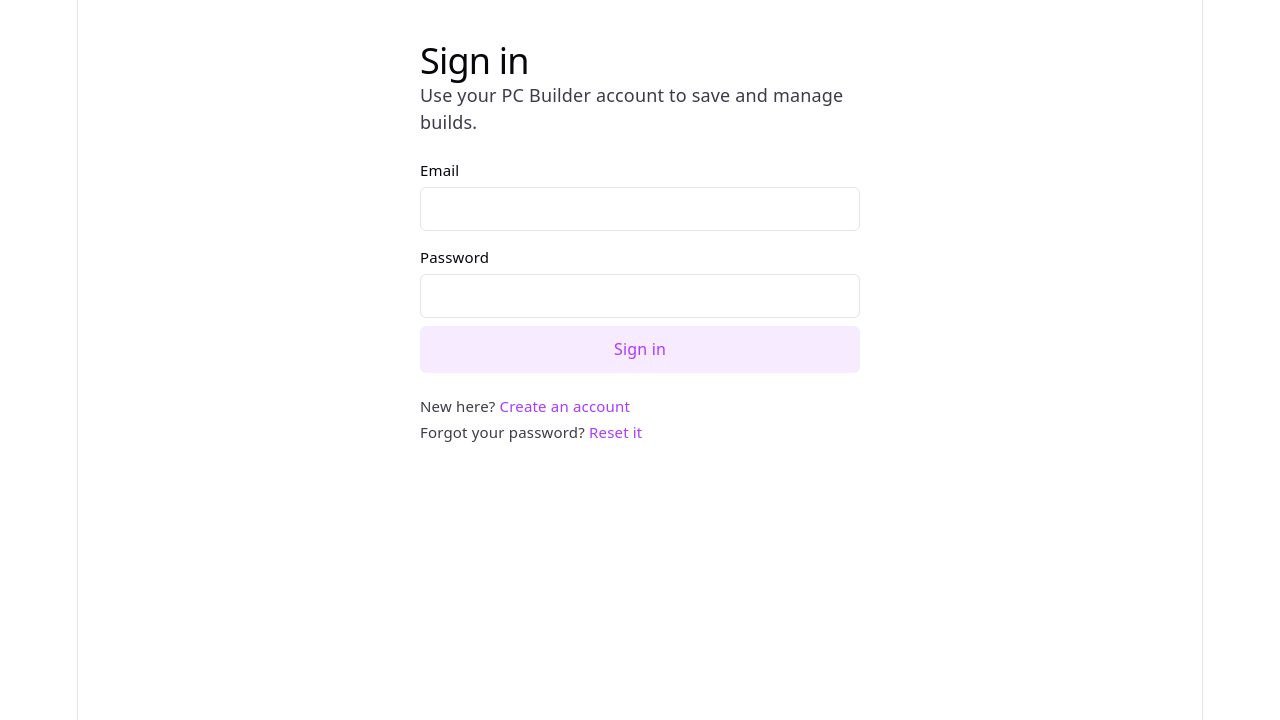
Test: LoginPage › validates required fields
The image size is (1280, 720).
Click the button "Sign in": (640, 349) x1=420 y1=326 x2=860 y2=372
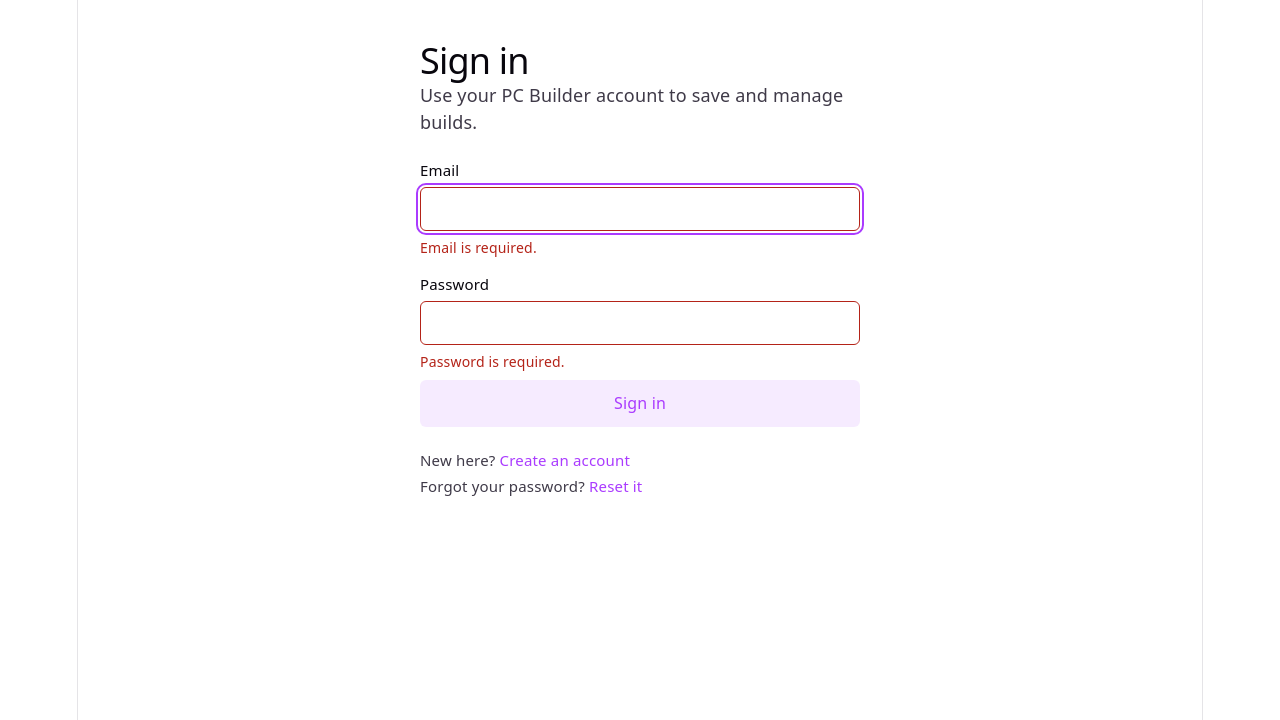
Result: the text "Email is required." is shown at x1=420 y1=238 x2=537 y2=257
Result: the text "Password is required." is shown at x1=420 y1=352 x2=565 y2=371
